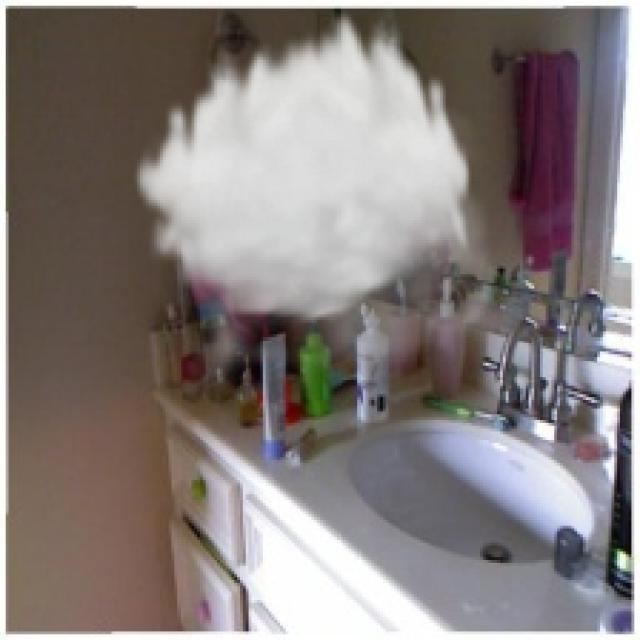smoke: (131, 3, 546, 400)
